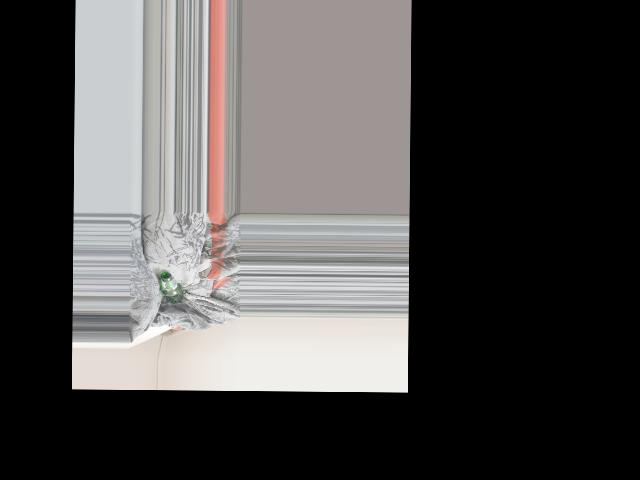beer: (159, 271, 182, 303)
